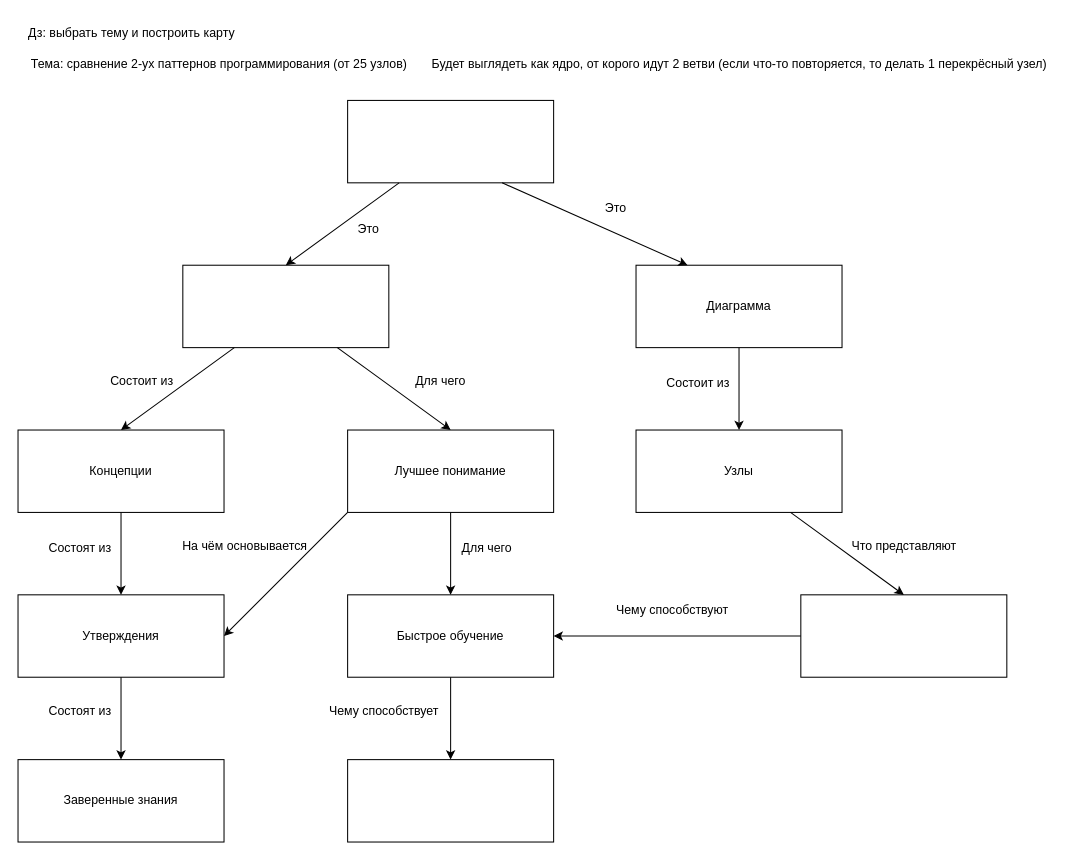
This 1076x860 diagram has some shape labels left out. Here are the shapes that lost their labels. From the top down, the centre of each, then its label:
At point (450, 141): "Концептуальная карта".
At point (285, 306): "Структурированные знания".
At point (903, 635): "Отдельные знания".
At point (450, 800): "Экономия времени".
